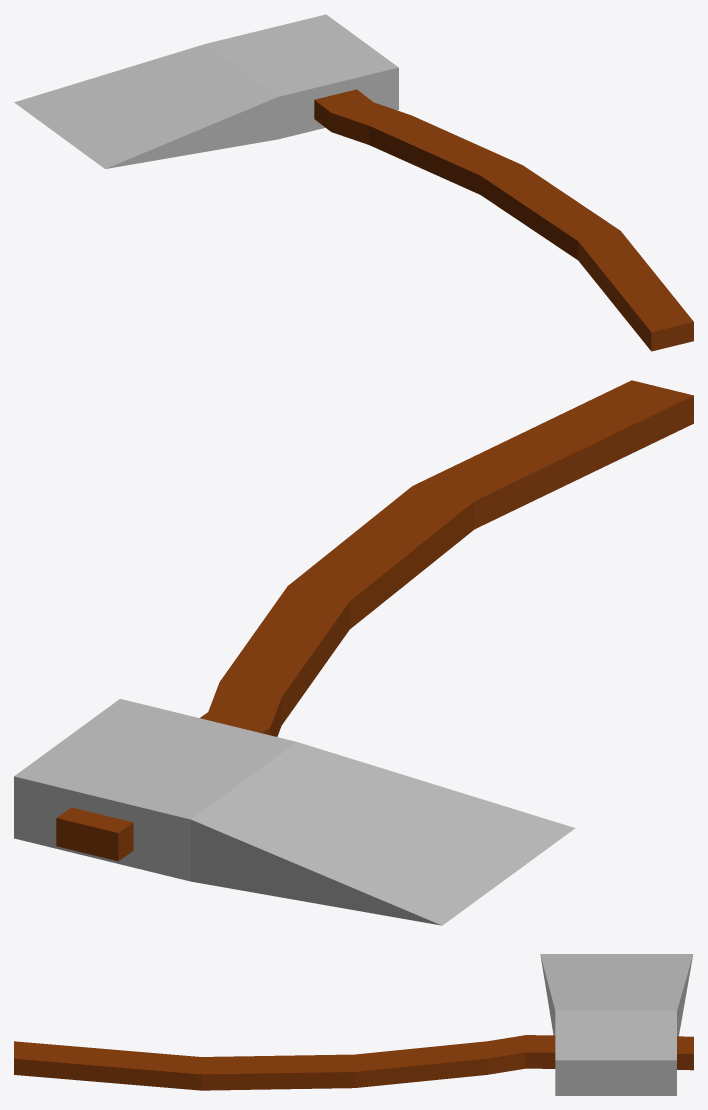
Rendered from Axe_02.fbx.
3 renders of one model, top to bottom at view 1: azimuth 30°, elevation 25°; view 2: azimuth 150°, elevation 25°; view 3: azimuth 270°, elevation 25°, orthographic. The views are drawn at different scales.
Parts seen in each view (by area): view 1: Axe_02; view 2: Axe_02; view 3: Axe_02.
Boxes of the visible parts, box(x1,y1,x2,y2) form: Axe_02: box(14, 14, 693, 351); Axe_02: box(14, 380, 693, 925); Axe_02: box(14, 954, 693, 1095).
Size of the model in its own units: 57.55 by 7.44 by 129.
